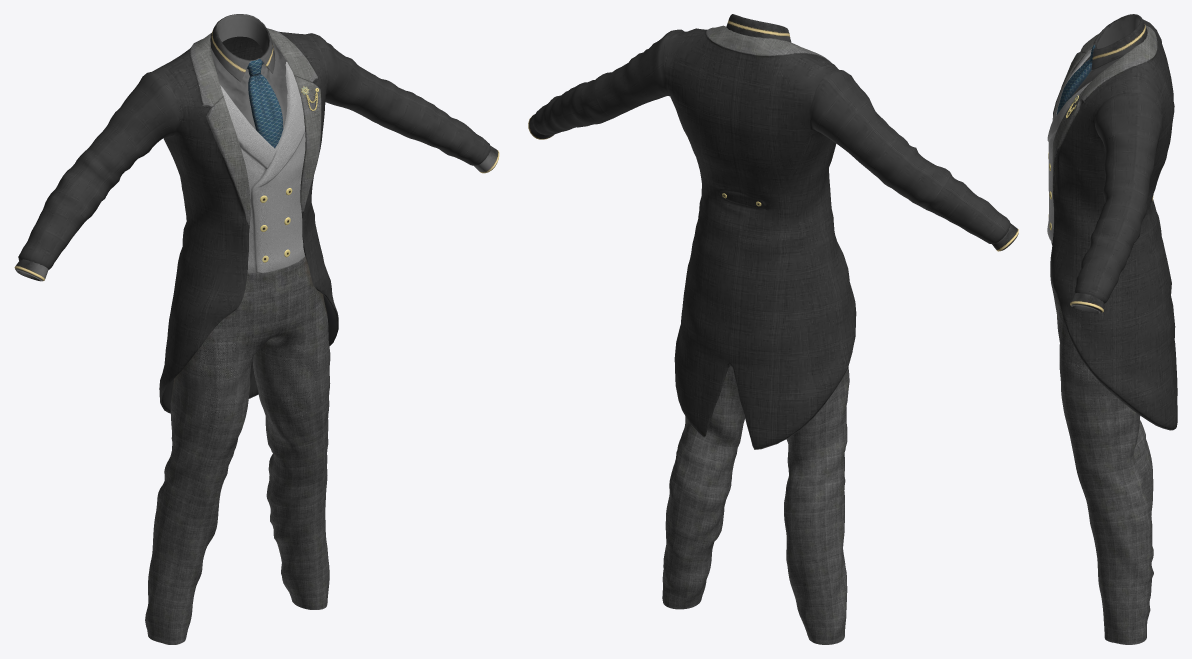
Rendered from tailcoat-suit.glb.
3 views of the same model, side by side, from view 1: azimuth 30°, elevation 25°; view 2: azimuth 150°, elevation 25°; view 3: azimuth 270°, elevation 25° (orthographic). The views are drawn at different scales.
Visible parts, largest first — view 1: Coat_low, pants_low, MidCoat_low, Collar_low, Shirt_low, Tie_low; view 2: Coat_low, pants_low, Collar_low; view 3: Coat_low, pants_low, Collar_low, MidCoat_low, Tie_low, Shirt_low.
Part boxes in pixels (x1,y1,x2,y2): Coat_low: (18,28,490,413); pants_low: (145,257,330,644); MidCoat_low: (220,62,305,273); Collar_low: (14,14,498,280); Shirt_low: (15,41,499,281); Tie_low: (247,59,283,148); Coat_low: (533,25,1010,449); pants_low: (662,366,849,644); Collar_low: (528,14,1018,250); Coat_low: (1051,19,1177,430); pants_low: (1050,242,1153,644); Collar_low: (1070,14,1147,313); MidCoat_low: (1047,48,1091,242); Tie_low: (1056,44,1095,114); Shirt_low: (1071,44,1120,313).
Bounding box in the file's own units: 1.68 × 2 × 0.4046.
3 materials, 3 textured.
